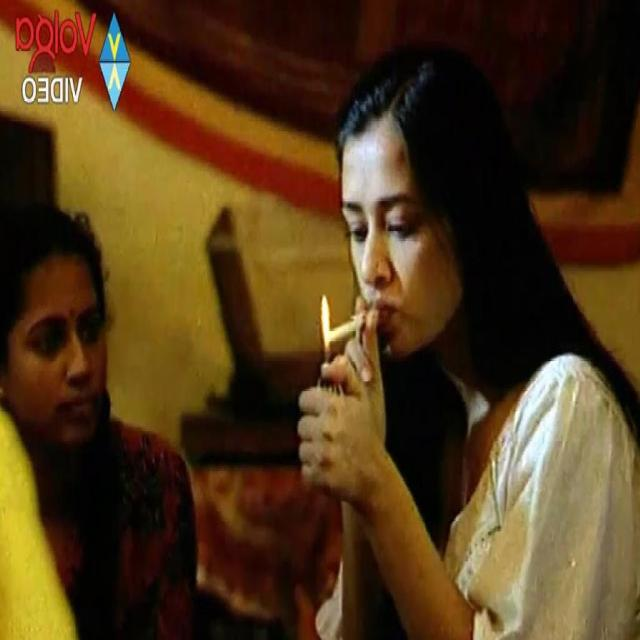smoking: (302, 40, 503, 368)
